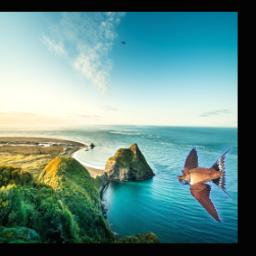Swallow: (175, 147, 233, 223)
